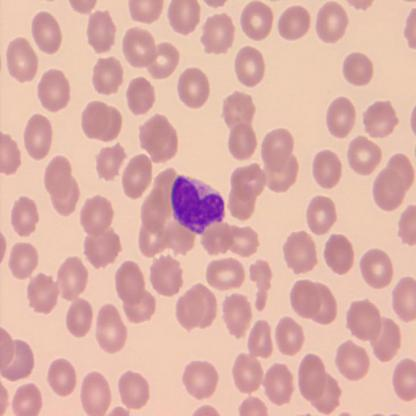Metamyelocyte: (168, 170, 228, 238)
